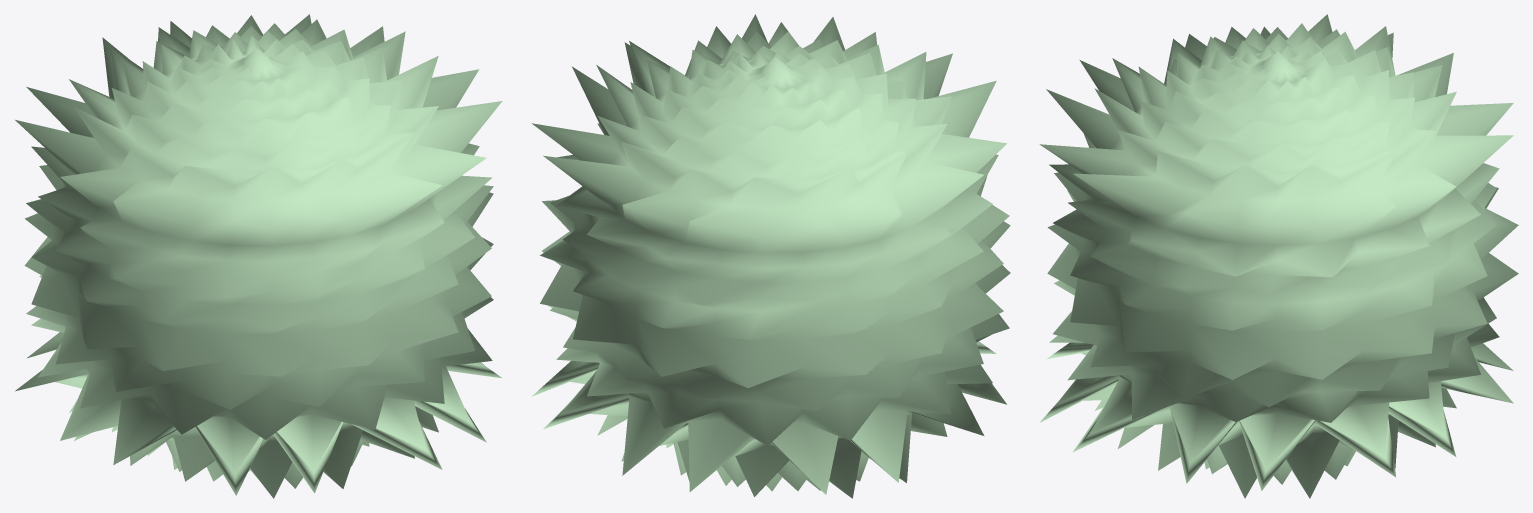
File: virus_ananas.fbx
The picture shows the model from 3 angles, left to right: view 1: azimuth 30°, elevation 25°; view 2: azimuth 150°, elevation 25°; view 3: azimuth 270°, elevation 25°; orthographic projection. The views are drawn at different scales.
Parts seen in each view (by area): view 1: virus_ananas; view 2: virus_ananas; view 3: virus_ananas.
Boxes of the visible parts, box(x1,y1,x2,y2) form: virus_ananas: box(15, 14, 502, 498); virus_ananas: box(532, 14, 1010, 498); virus_ananas: box(1039, 14, 1518, 498).
Bounding box in the file's own units: 2.34 × 2.2 × 2.37.
